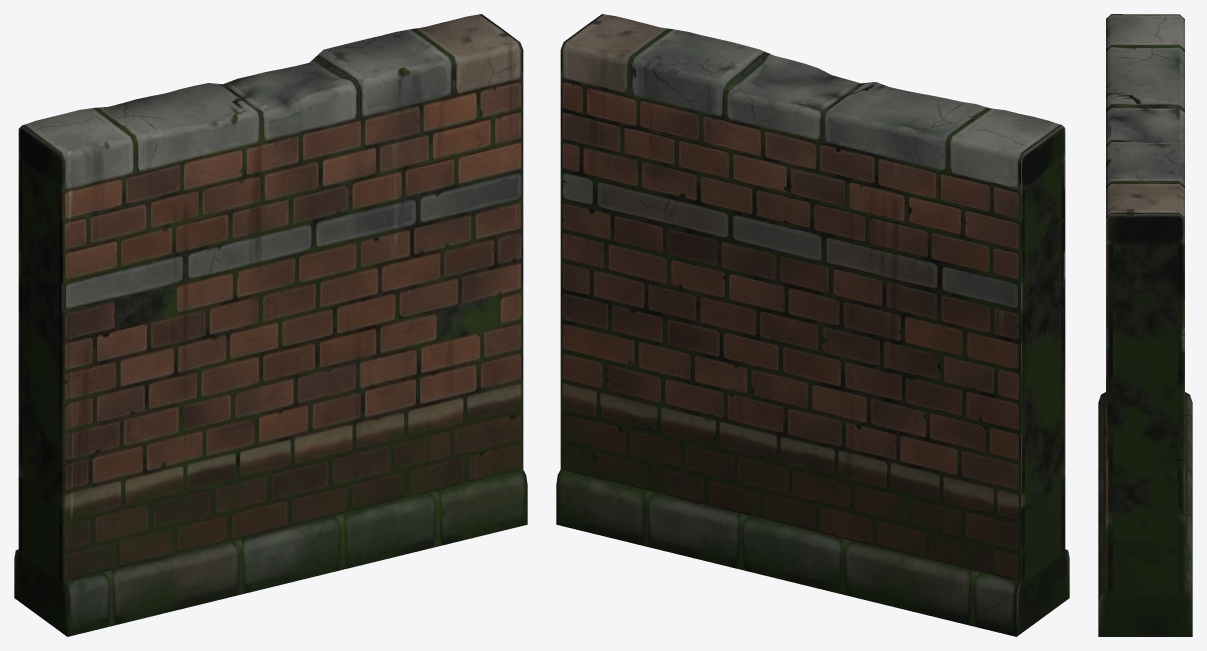
Rendered from sunken_wall.glb.
3 views of the same model, side by side, from view 1: azimuth 30°, elevation 25°; view 2: azimuth 150°, elevation 25°; view 3: azimuth 270°, elevation 25° (orthographic). The views are drawn at different scales.
Parts seen in each view (by area): view 1: sunken_wall; view 2: sunken_wall; view 3: sunken_wall.
Boxes of the visible parts, <box> form: sunken_wall: <box>14,14,527,636</box>; sunken_wall: <box>556,14,1069,636</box>; sunken_wall: <box>1098,14,1192,636</box>.
Size of the model in its own units: 4 by 3.99 by 0.8.
1 material, 1 textured.
